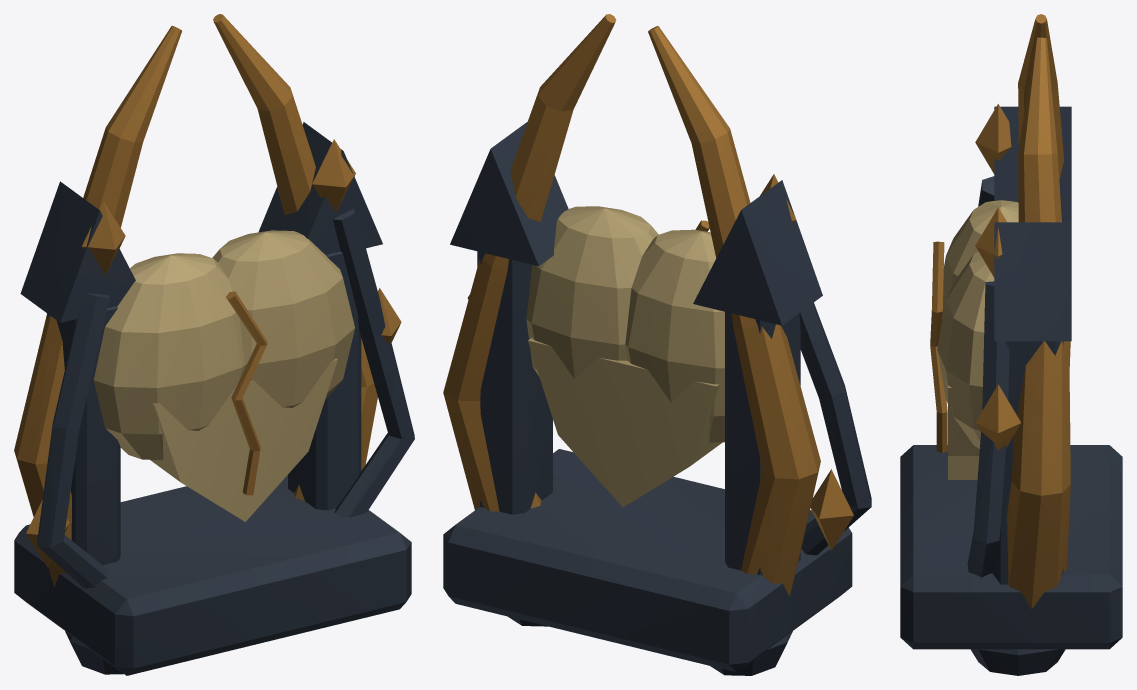
The model's file is cathedral_heart.fbx.
The picture shows the model from 3 angles, left to right: view 1: azimuth 30°, elevation 25°; view 2: azimuth 150°, elevation 25°; view 3: azimuth 270°, elevation 25°; orthographic projection. The views are drawn at different scales.
Parts seen in each view (by area): view 1: cathedral_heart; view 2: cathedral_heart; view 3: cathedral_heart.
Boxes of the visible parts, x1,y1,x2,y2 form: cathedral_heart: [14, 14, 414, 675]; cathedral_heart: [443, 14, 871, 675]; cathedral_heart: [900, 14, 1122, 675].
Size of the model in its own units: 2.63 by 4.02 by 1.35.
